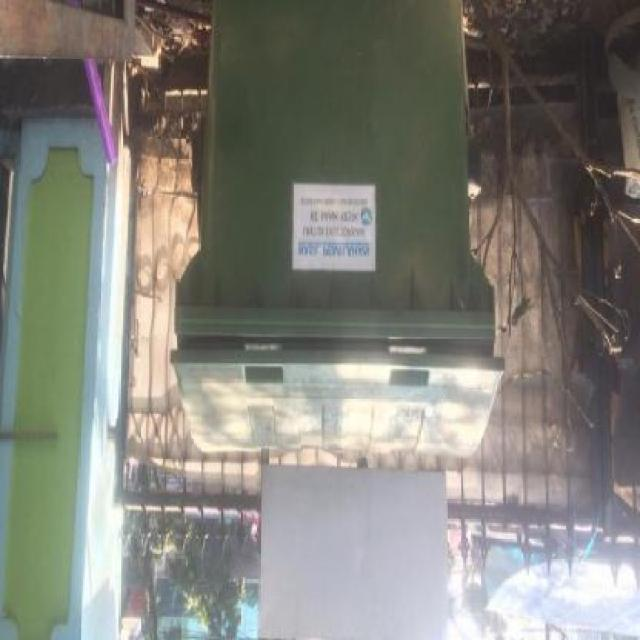garbage container: (164, 3, 509, 469)
